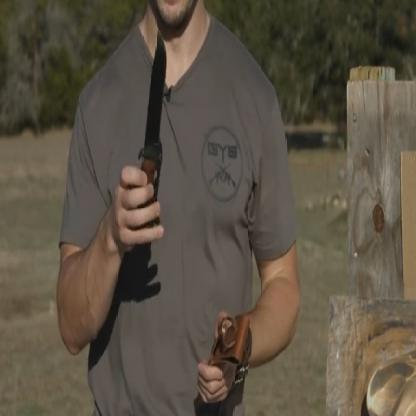knife: (111, 13, 177, 244)
